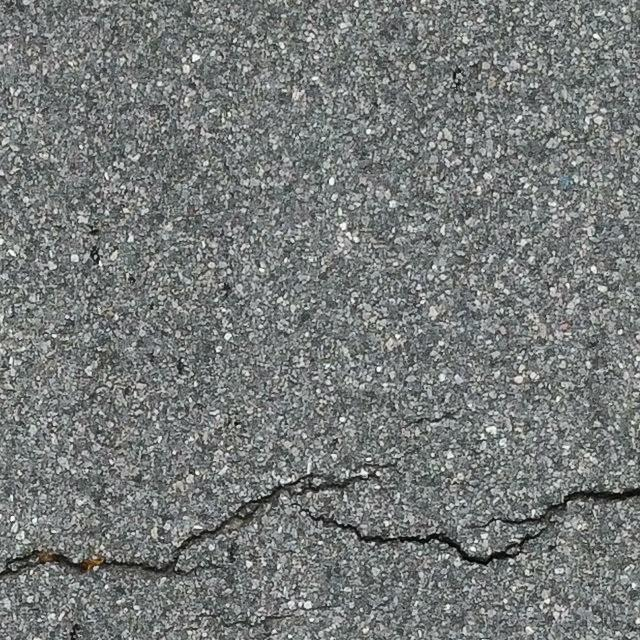TransverseCrack: (1, 455, 396, 585), (300, 485, 640, 567)
